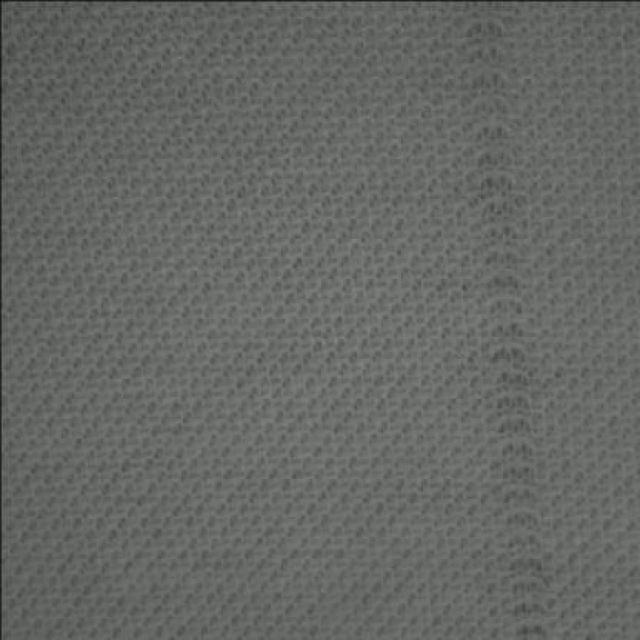Line: (459, 3, 545, 640)
